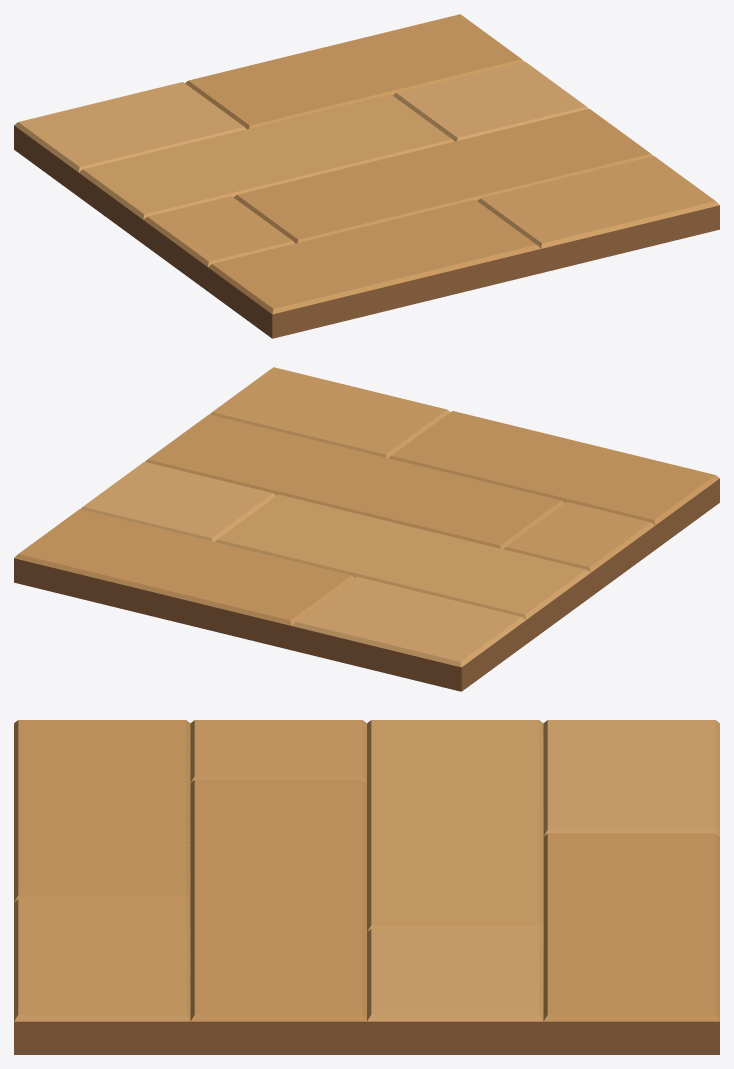
File: wg_boden_holz_a.glb
The picture shows the model from 3 angles, top to bottom: view 1: azimuth 30°, elevation 25°; view 2: azimuth 150°, elevation 25°; view 3: azimuth 270°, elevation 25°; orthographic projection. The views are drawn at different scales.
Visible parts, largest first — view 1: wg_boden_holz_a; view 2: wg_boden_holz_a; view 3: wg_boden_holz_a.
Boxes of the visible parts, x1=… form: wg_boden_holz_a: x1=14, y1=14, x2=719, y2=338; wg_boden_holz_a: x1=14, y1=367, x2=719, y2=691; wg_boden_holz_a: x1=14, y1=720, x2=719, y2=1054.
Bounding box in the file's own units: 1 × 0.06 × 1.
